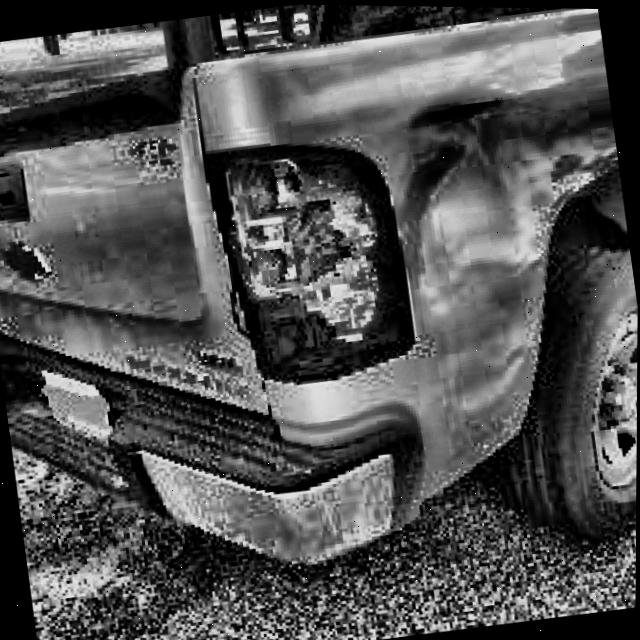tail_lamp: (220, 148, 384, 358)
